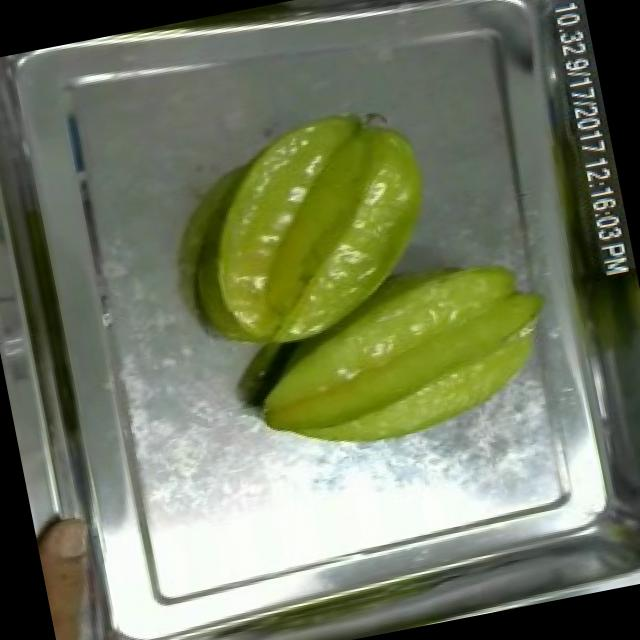fruit: (224, 228, 576, 474), (175, 85, 465, 372), (31, 502, 126, 640)
